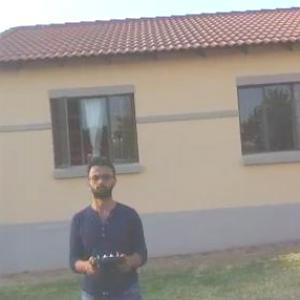follow: (64, 151, 155, 299)
